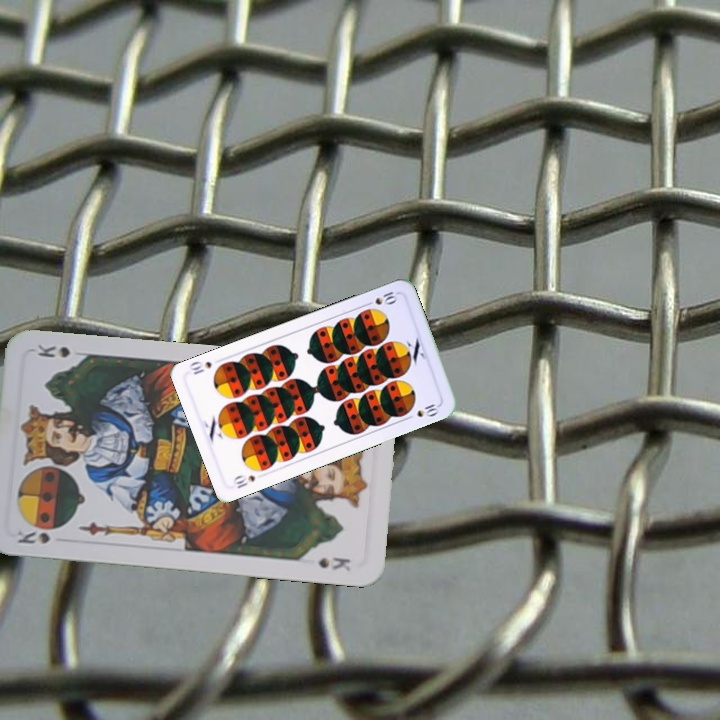S10: (361, 286, 401, 313), (229, 471, 258, 491)
SK: (13, 526, 53, 547)
